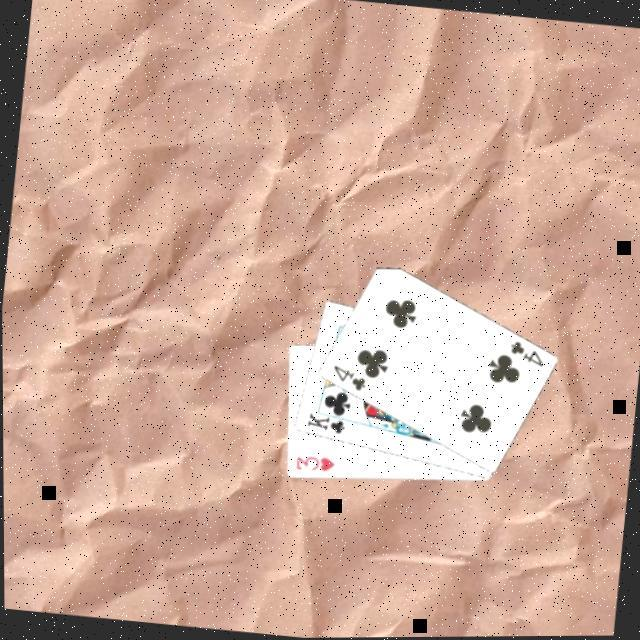3H: (289, 452, 335, 476)
4C: (325, 362, 368, 396), (503, 338, 546, 371)
KC: (301, 408, 352, 440)
